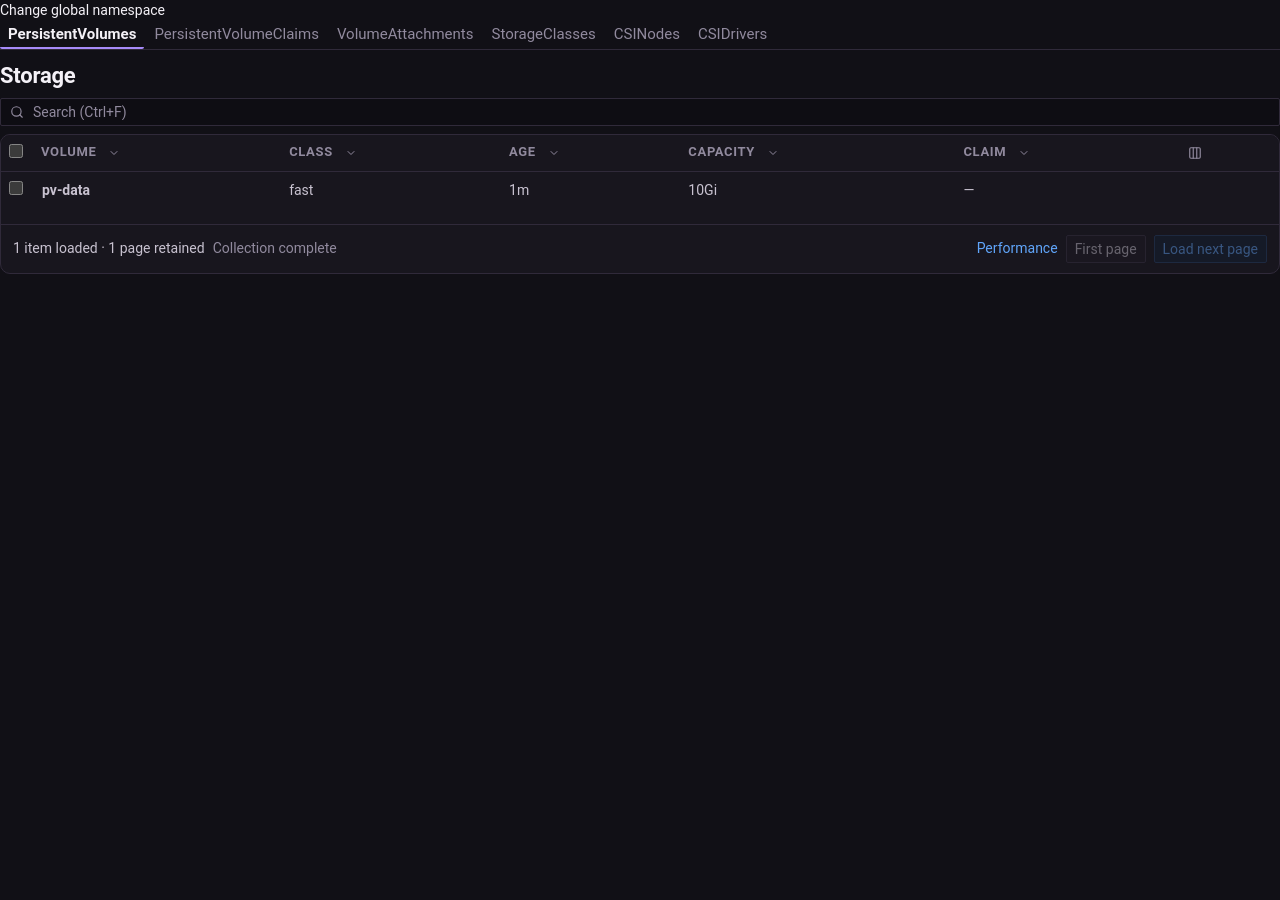
Scenario: read-only resource pages › keeps hidden Storage columns in the chooser so they can be restored
The width and height of the screenshot is (1280, 900).
Check: the button with aria-label "Open pv-data" is shown, box [41,176,99,204]
Check: the column heading "Phase" is not shown
Click the button named "Choose visible columns". click: click(1195, 152)
box: [1181,138,1209,166]
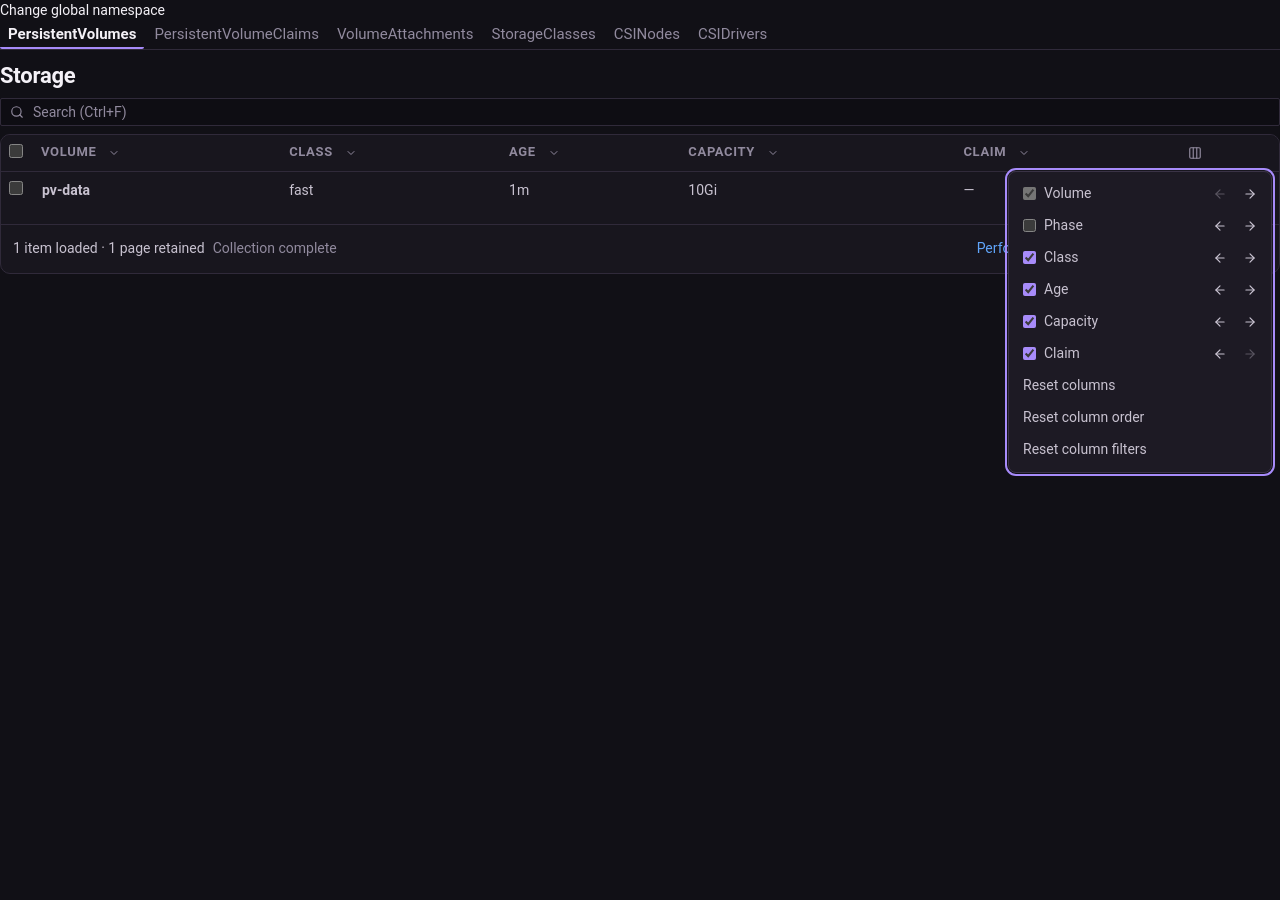
Check: the checkbox labelled "Phase" is not checked
Click the checkbox labelled "Phase". click: click(1030, 226)
box: [1023,219,1036,232]
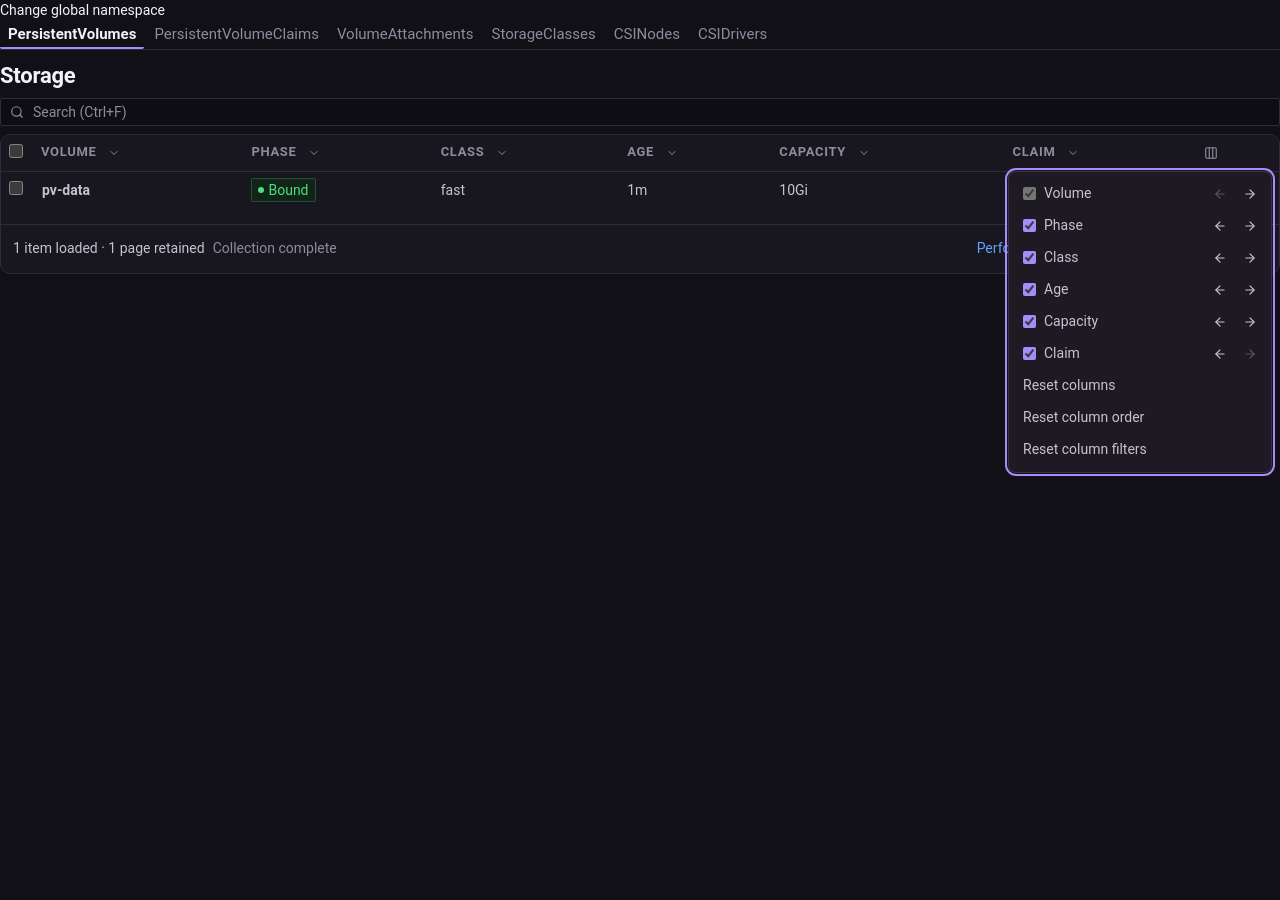
Check: the column heading "Phase" is shown, box [244,134,433,171]
